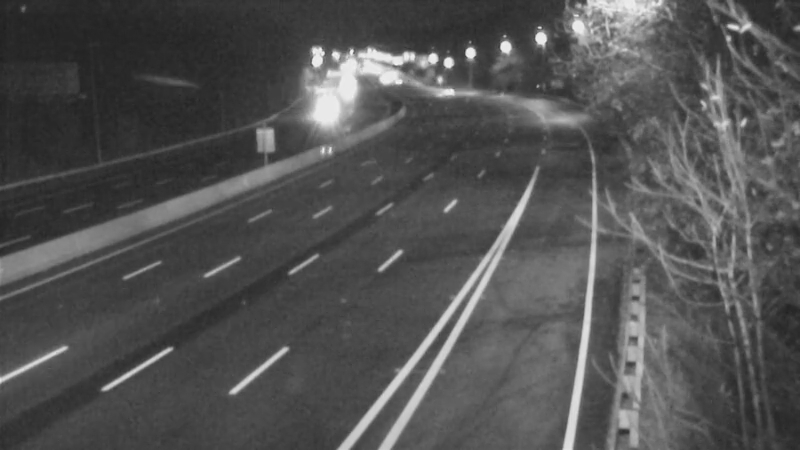vehicle: (419, 68, 469, 118), (302, 86, 352, 136)
